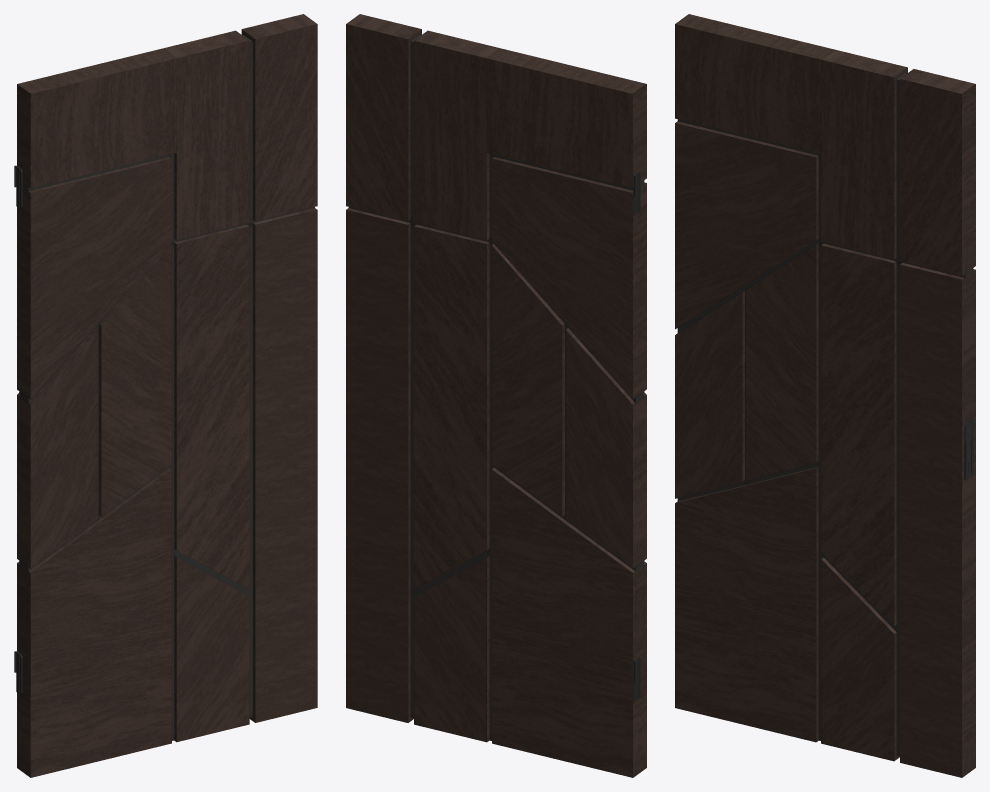
File: PuertaCuartoA_opacos.fbx
3 views of the same model, side by side, from view 1: azimuth 30°, elevation 25°; view 2: azimuth 150°, elevation 25°; view 3: azimuth 330°, elevation 25° (orthographic).
Parts seen in each view (by area): view 1: Door 1A; view 2: Door 1A; view 3: Door 1A, Door lock 1''.001.
Part boxes in pixels (<box>): Door 1A: <box>17,14,317,777</box>; Door 1A: <box>346,14,646,777</box>; Door 1A: <box>675,14,975,777</box>; Door lock 1''.001: <box>964,419,973,479</box>.
Bounding box in the file's own units: 91.82 × 207 × 7.63.
Materials: 1 (1 with a texture image).
